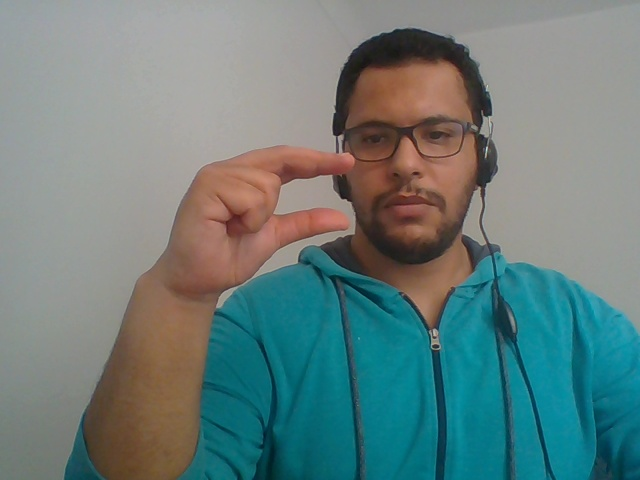no: (129, 121, 362, 325)
